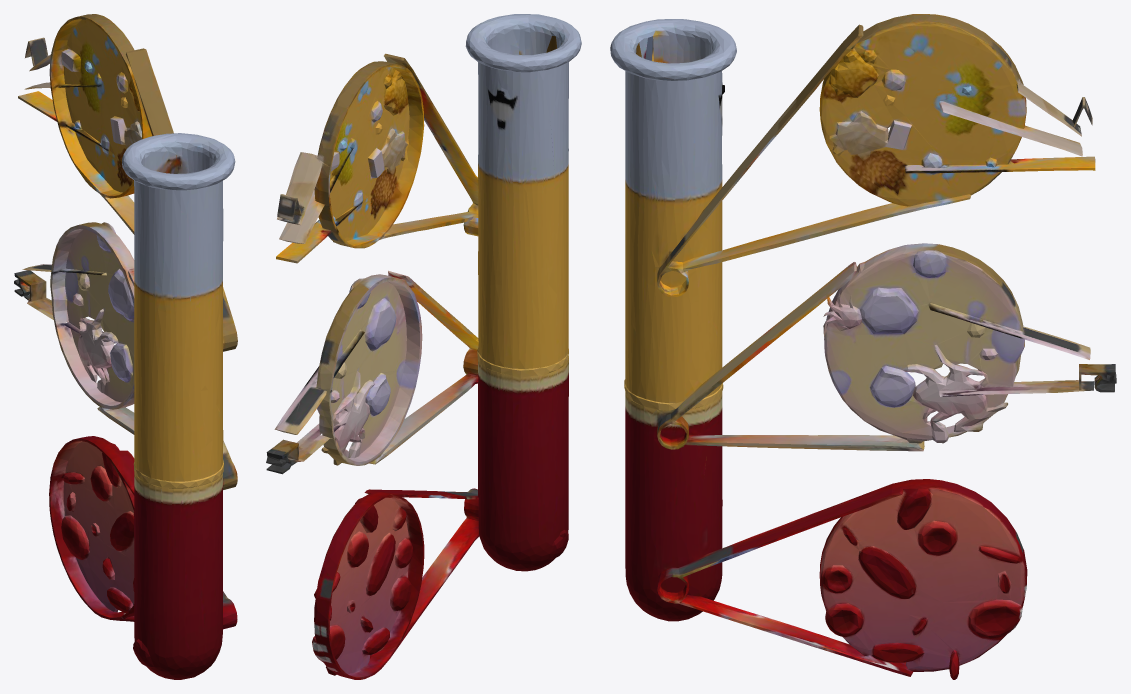
The picture shows the model from 3 angles, left to right: view 1: azimuth 30°, elevation 25°; view 2: azimuth 150°, elevation 25°; view 3: azimuth 270°, elevation 25°; orthographic projection. The views are drawn at different scales.
Parts seen in each view (by area): view 1: tripo_node_971ade58-9dd1-42bf-b0c0-ecc01f8bec96; view 2: tripo_node_971ade58-9dd1-42bf-b0c0-ecc01f8bec96; view 3: tripo_node_971ade58-9dd1-42bf-b0c0-ecc01f8bec96.
Boxes of the visible parts, x1,y1,x2,y2 form: tripo_node_971ade58-9dd1-42bf-b0c0-ecc01f8bec96: (14,14,237,679); tripo_node_971ade58-9dd1-42bf-b0c0-ecc01f8bec96: (266,14,581,679); tripo_node_971ade58-9dd1-42bf-b0c0-ecc01f8bec96: (610,14,1116,679).
Size of the model in its own units: 0.2041 by 0.997 by 0.702.
Materials: 1 (1 with a texture image).
